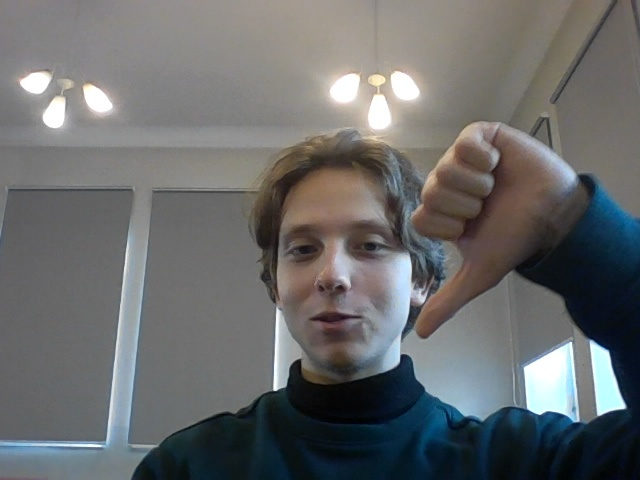no: (402, 120, 559, 341)
